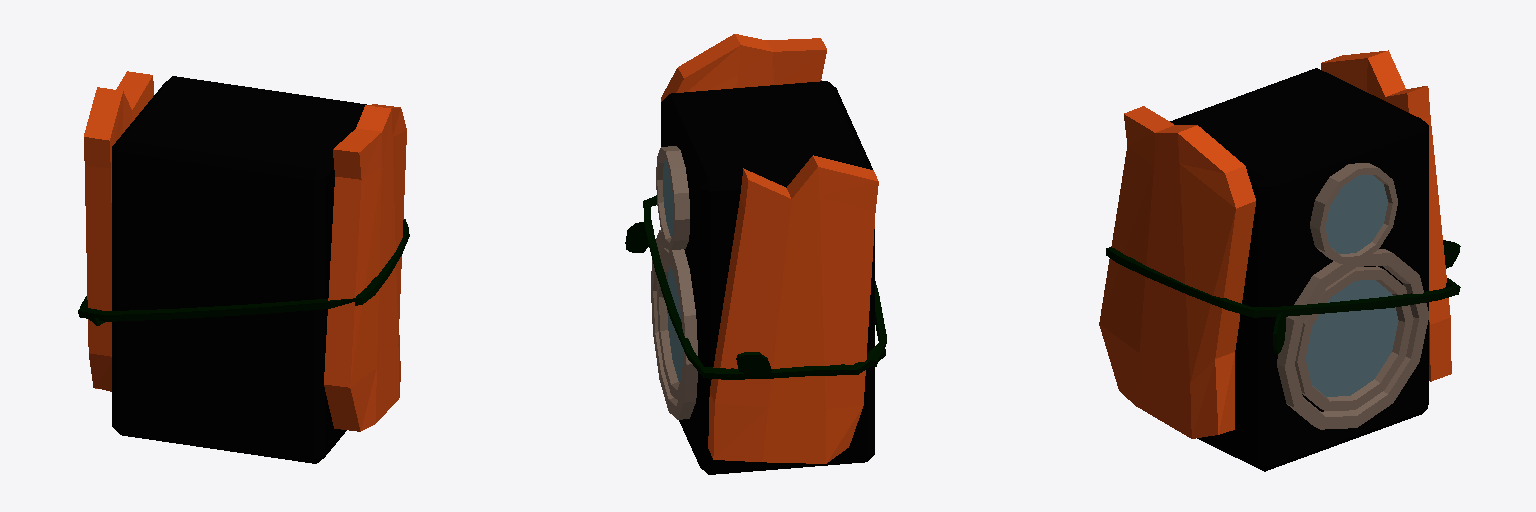
The model's file is SmallSpeaker.obj.
3 renders of one model, left to right at view 1: azimuth 30°, elevation 25°; view 2: azimuth 150°, elevation 25°; view 3: azimuth 270°, elevation 25°, orthographic.
Visible parts, largest first — view 1: Speaker2; view 2: Speaker2; view 3: Speaker2.
Boxes of the visible parts, x1,y1,x2,y2 form: Speaker2: [78, 71, 409, 463]; Speaker2: [625, 34, 886, 474]; Speaker2: [1099, 50, 1460, 471].
Bounding box in the file's own units: 2 × 2.18 × 2.18.